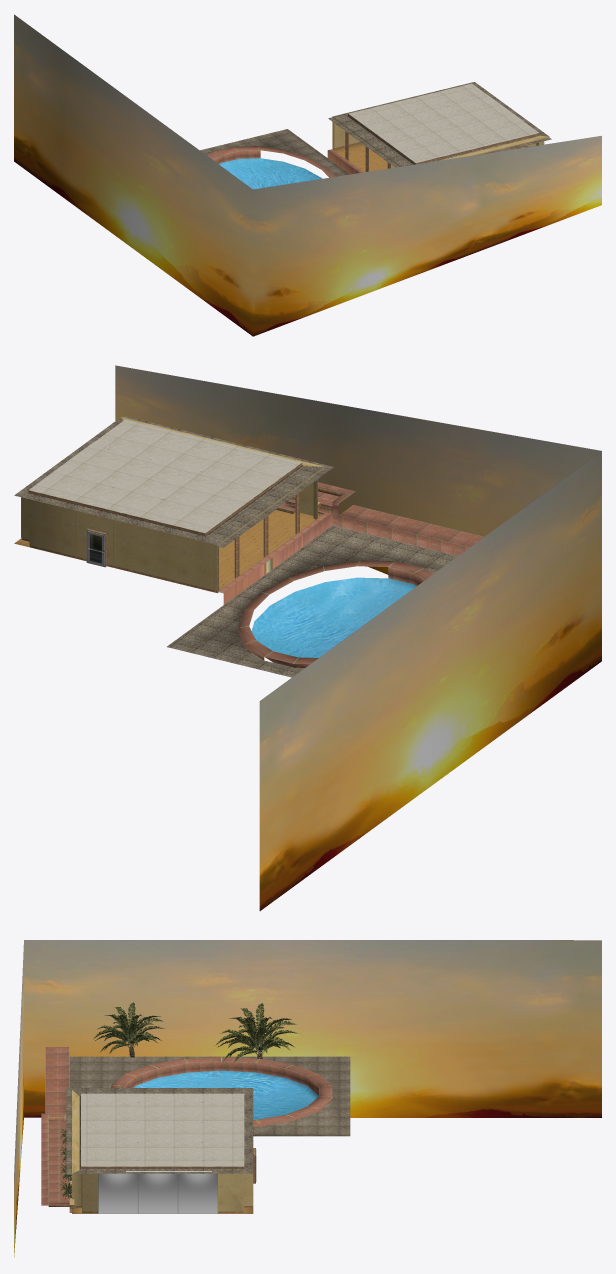
Rendered from FitnessStudioPalms.FBX.
3 views of the same model, one above another, from view 1: azimuth 30°, elevation 25°; view 2: azimuth 150°, elevation 25°; view 3: azimuth 270°, elevation 25° (orthographic). The views are drawn at different scales.
Parts seen in each view (by area): view 1: Background, DEC_Walls; view 2: Background, DEC_Walls; view 3: Background, DEC_Walls, DEC_Mirror, Palm04.
Boxes of the visible parts, <box> form: Background: <box>14,14,601,336</box>; DEC_Walls: <box>200,82,551,189</box>; Background: <box>115,365,601,910</box>; DEC_Walls: <box>14,416,483,677</box>; Background: <box>14,940,601,1257</box>; DEC_Walls: <box>41,1047,350,1213</box>; DEC_Mirror: <box>98,1173,217,1213</box>; Palm04: <box>93,1002,298,1061</box>.
Size of what is drawn, in the model's own units: 3076 by 3762 by 1255.
